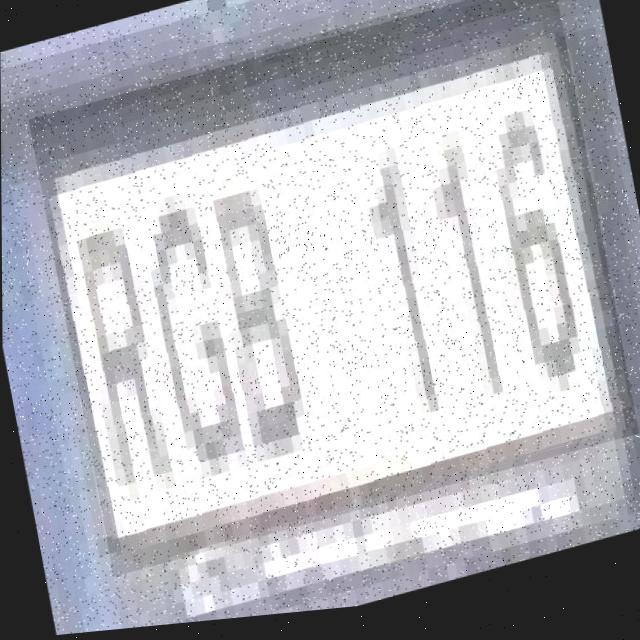LicensePlate: (27, 0, 638, 585)
